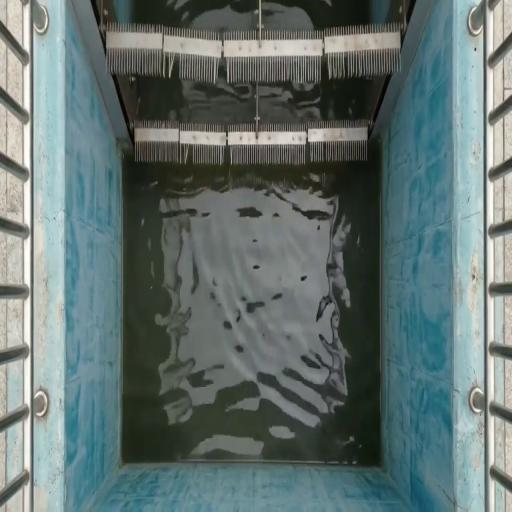rake_broken: (151, 36, 240, 90), (309, 42, 370, 90), (296, 137, 344, 169), (173, 142, 208, 172)
